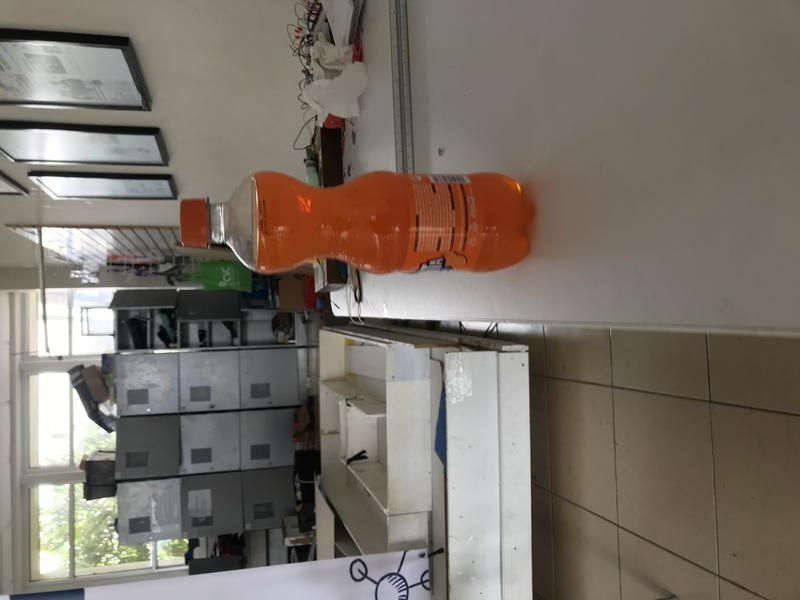fanta: (180, 171, 537, 276)
